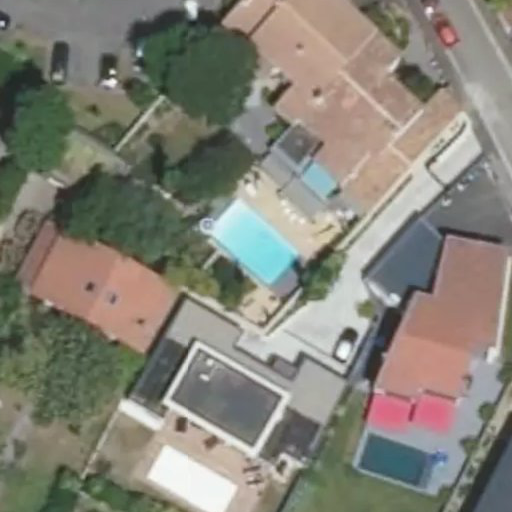pool: (209, 229, 302, 254)
